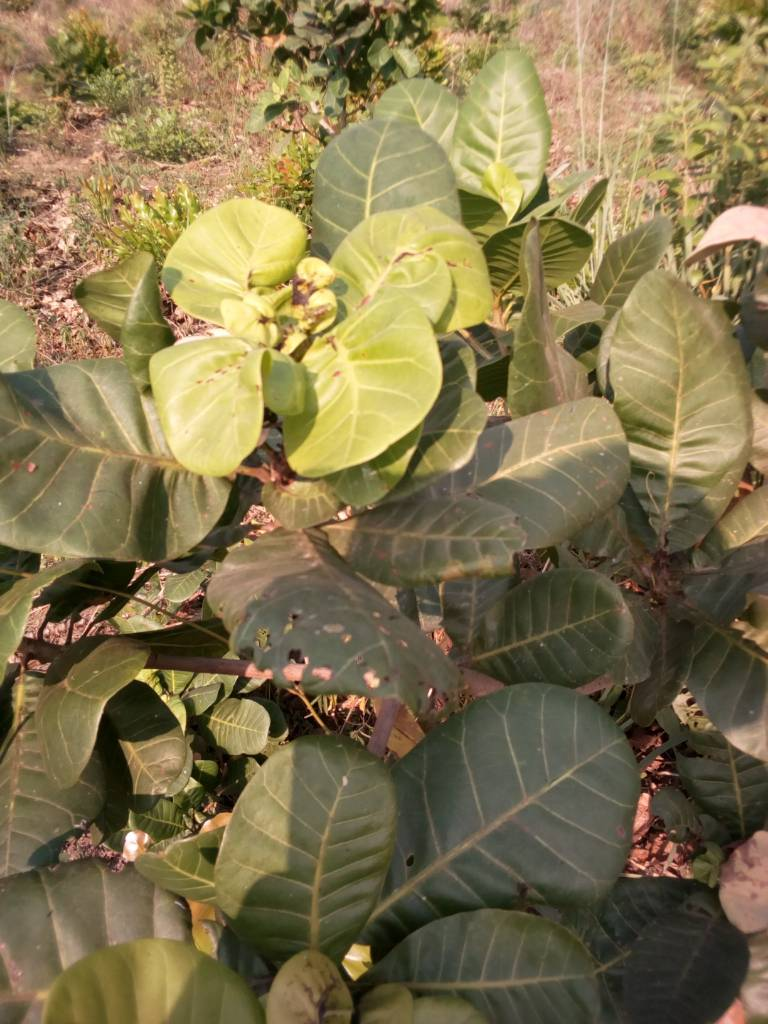Helopeltis anacardii: (616, 267, 744, 547), (1, 357, 157, 552), (149, 333, 296, 471), (329, 500, 529, 583)
